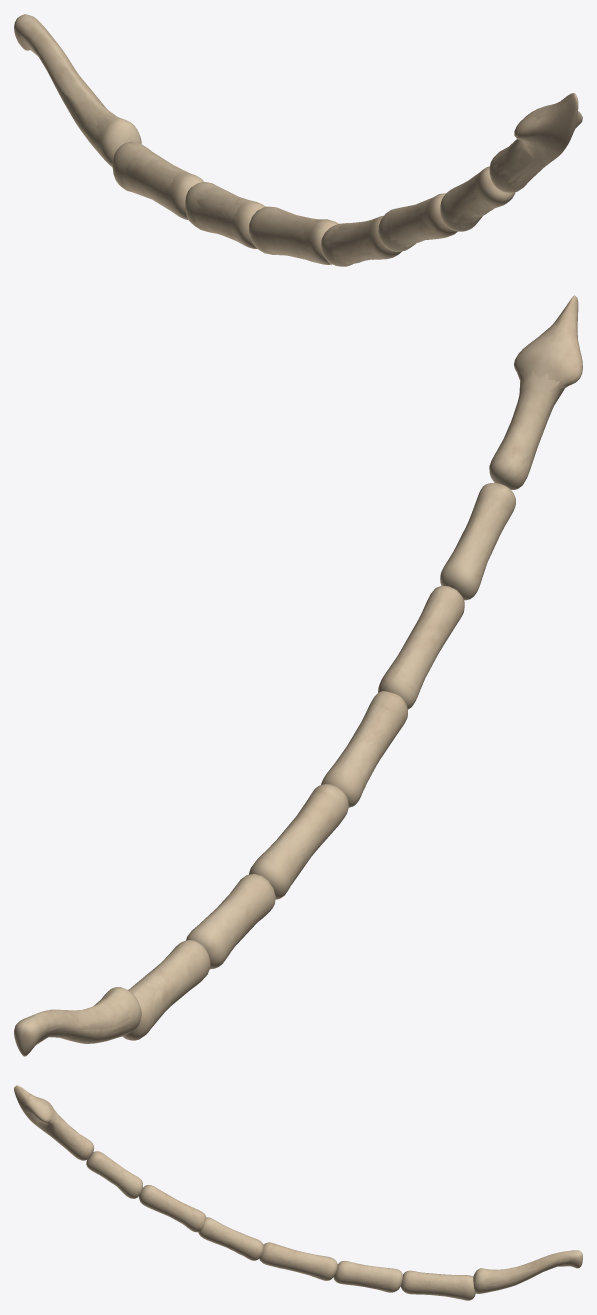
Rendered from Sternum.fbx.
The picture shows the model from 3 angles, top to bottom: view 1: azimuth 30°, elevation 25°; view 2: azimuth 150°, elevation 25°; view 3: azimuth 270°, elevation 25°; orthographic projection. The views are drawn at different scales.
Visible parts, largest first — view 1: Sternum high, Sternum low, Sternum; view 2: Sternum high, Sternum low, Sternum; view 3: Sternum high, Sternum low, Sternum.
Boxes of the visible parts, x1,y1,x2,y2 form: Sternum high: (14, 14, 582, 266); Sternum low: (29, 44, 560, 261); Sternum: (14, 15, 582, 265); Sternum high: (14, 295, 582, 1056); Sternum low: (35, 310, 576, 1045); Sternum: (14, 295, 582, 1055); Sternum high: (14, 1085, 582, 1300); Sternum low: (19, 1091, 572, 1299); Sternum: (16, 1085, 581, 1299).
Size of the model in its own units: 2.78 by 17.28 by 41.53.
Materials: 1 (1 with a texture image).
